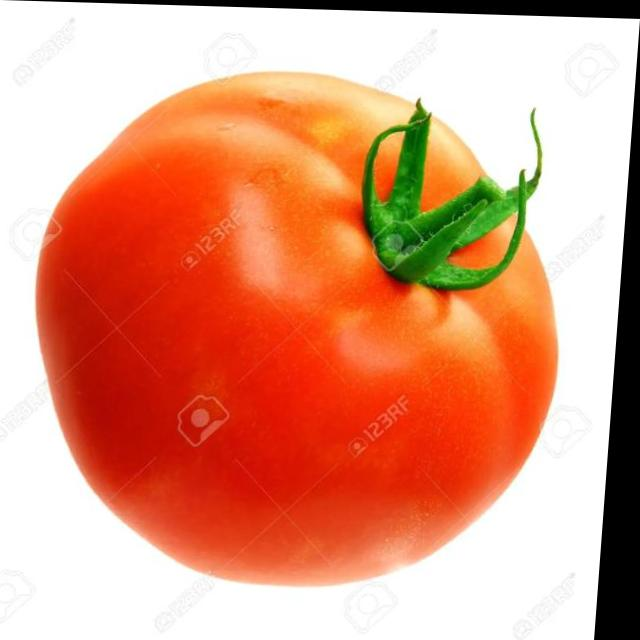kirmizi: (25, 59, 587, 608)
